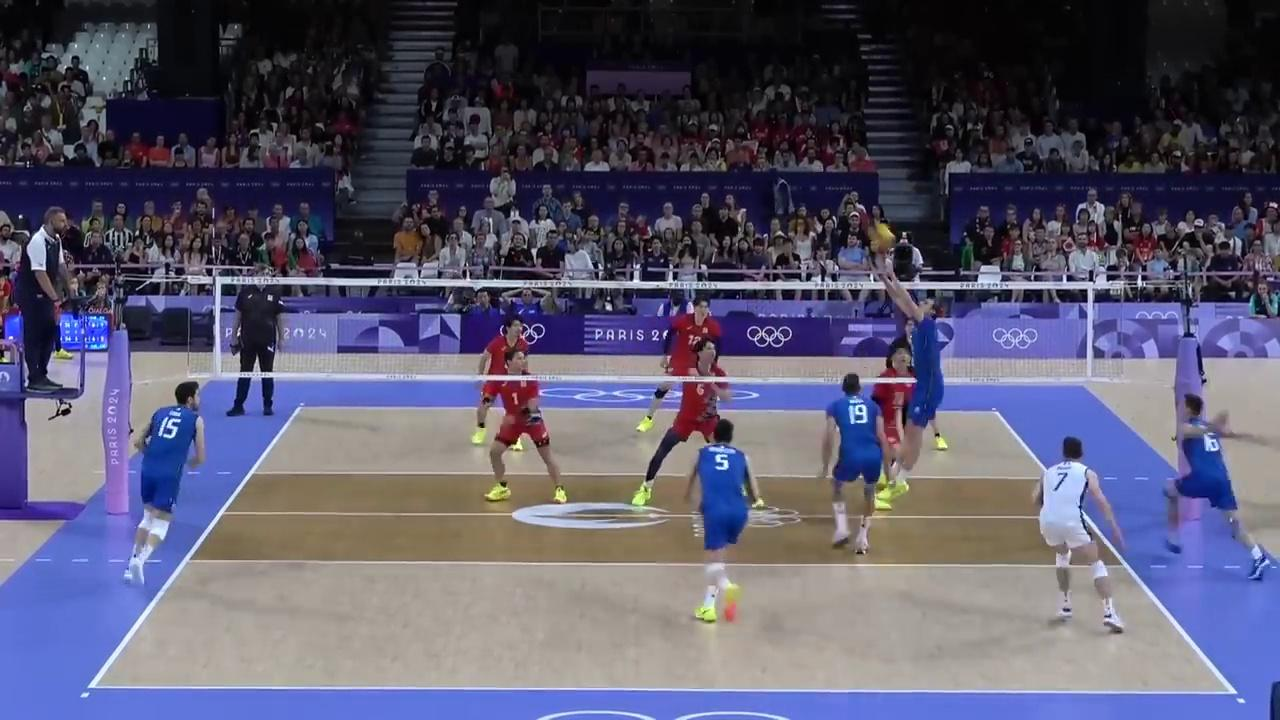ball: (869, 225, 896, 252)
